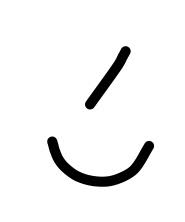s: (30, 122, 176, 193)
